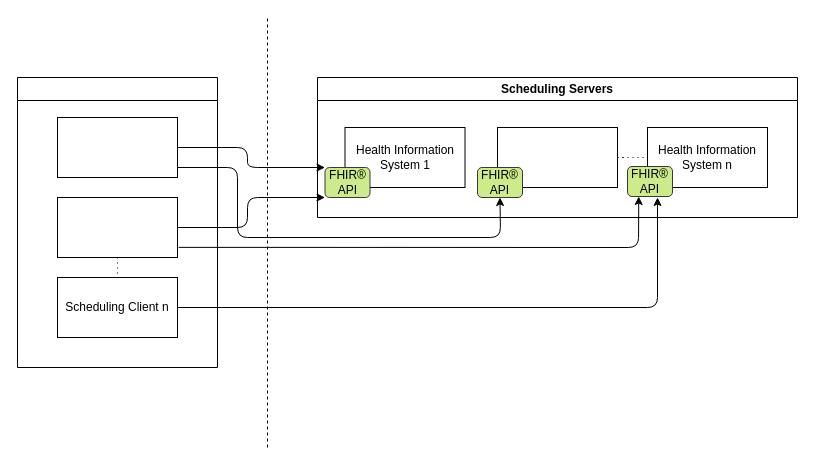
This 825x466 diagram has some shape labels left out. The box of each missing label's shape, as (x1, y1, x2, y2) in pixels:
Clients: (16, 76, 218, 368)
Health Information System 2: (496, 126, 618, 188)
Scheduling Client 1: (56, 116, 178, 178)
Scheduling Client 2: (56, 196, 178, 258)
